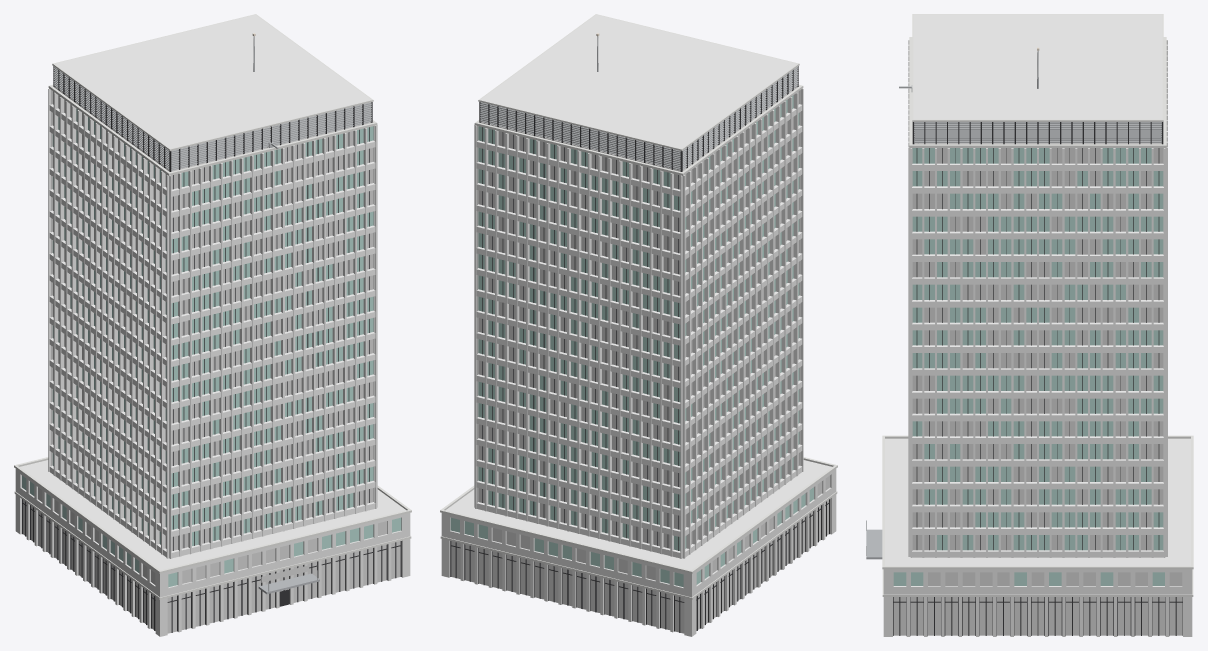
Rendered from tower_p290a.glb.
The picture shows the model from 3 angles, left to right: view 1: azimuth 30°, elevation 25°; view 2: azimuth 150°, elevation 25°; view 3: azimuth 270°, elevation 25°; orthographic projection. The views are drawn at different scales.
Visible parts, largest first — view 1: tower_p290a_Walls, tower_p290a_WindowsLit, tower_p290a_Roof, tower_p290a_Glass, tower_p290a_Walls2, tower_p290a_Frames, tower_p290a_Details, tower_p290a_Trim, tower_p290a_Accent; view 2: tower_p290a_Walls, tower_p290a_WindowsLit, tower_p290a_Glass, tower_p290a_Roof, tower_p290a_Walls2, tower_p290a_Frames, tower_p290a_Trim, tower_p290a_Details; view 3: tower_p290a_Walls, tower_p290a_WindowsLit, tower_p290a_Glass, tower_p290a_Roof, tower_p290a_Frames, tower_p290a_Walls2, tower_p290a_Trim, tower_p290a_Details, tower_p290a_Accent.
Boxes of the visible parts, left/top/right/bottom form: tower_p290a_Walls: left=48, top=86, right=377, bottom=558; tower_p290a_WindowsLit: left=23, top=91, right=400, bottom=633; tower_p290a_Roof: left=20, top=14, right=406, bottom=570; tower_p290a_Glass: left=22, top=108, right=401, bottom=587; tower_p290a_Walls2: left=15, top=469, right=410, bottom=636; tower_p290a_Frames: left=22, top=66, right=401, bottom=632; tower_p290a_Details: left=53, top=36, right=371, bottom=591; tower_p290a_Trim: left=14, top=14, right=411, bottom=599; tower_p290a_Accent: left=258, top=573, right=319, bottom=594; tower_p290a_Walls: left=474, top=86, right=803, bottom=558; tower_p290a_WindowsLit: left=451, top=91, right=829, bottom=633; tower_p290a_Glass: left=450, top=95, right=813, bottom=587; tower_p290a_Roof: left=445, top=14, right=831, bottom=570; tower_p290a_Walls2: left=441, top=469, right=836, bottom=636; tower_p290a_Frames: left=450, top=66, right=829, bottom=632; tower_p290a_Trim: left=440, top=14, right=837, bottom=599; tower_p290a_Details: left=480, top=36, right=798, bottom=170; tower_p290a_Walls: left=908, top=40, right=1167, bottom=557; tower_p290a_WindowsLit: left=893, top=148, right=1182, bottom=635; tower_p290a_Glass: left=893, top=148, right=1164, bottom=585; tower_p290a_Roof: left=885, top=14, right=1190, bottom=565; tower_p290a_Frames: left=893, top=122, right=1182, bottom=635; tower_p290a_Walls2: left=883, top=569, right=1192, bottom=636; tower_p290a_Trim: left=882, top=14, right=1193, bottom=596; tower_p290a_Details: left=866, top=50, right=1161, bottom=555; tower_p290a_Accent: left=866, top=529, right=882, bottom=559.
Size of the model in its own units: 161 by 312 by 170.
